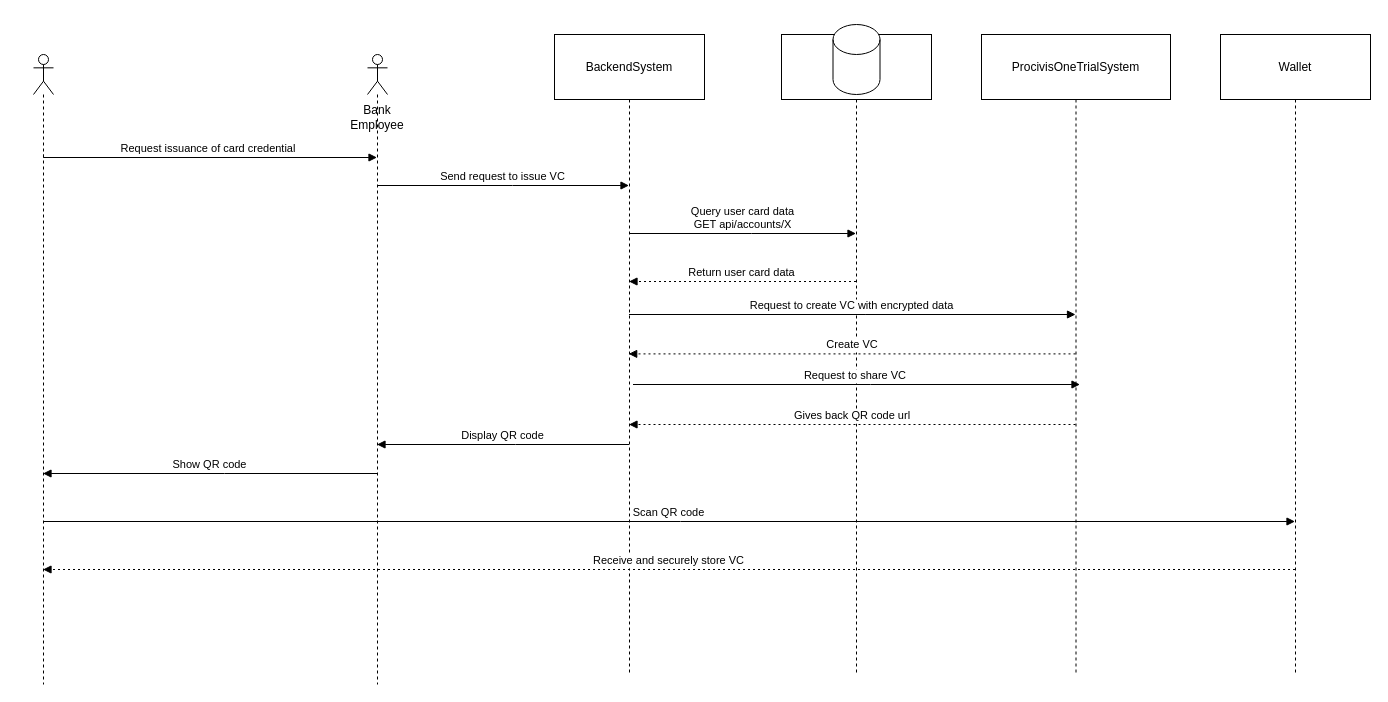
This 1388x702 diagram has some shape labels left out. Here are the shapes that lost their labels. From the top down, the box of each, then its label:
(832, 24, 880, 94): DB
(32, 54, 54, 684): Bank Customer
